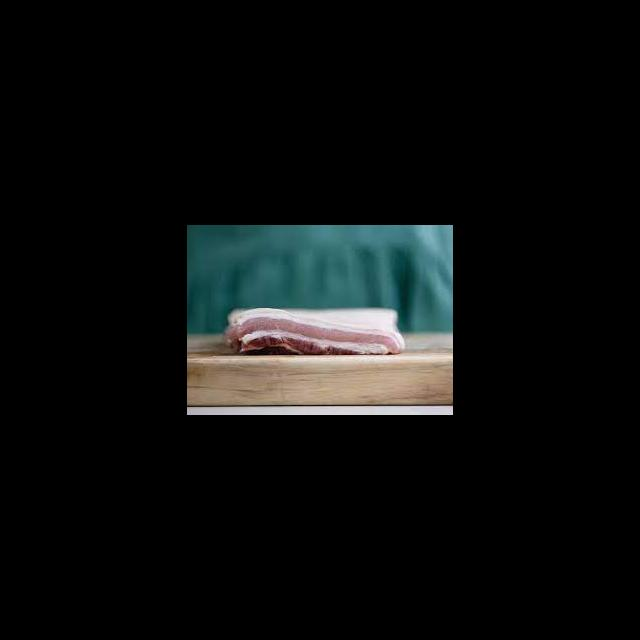pork: (230, 308, 402, 356)
